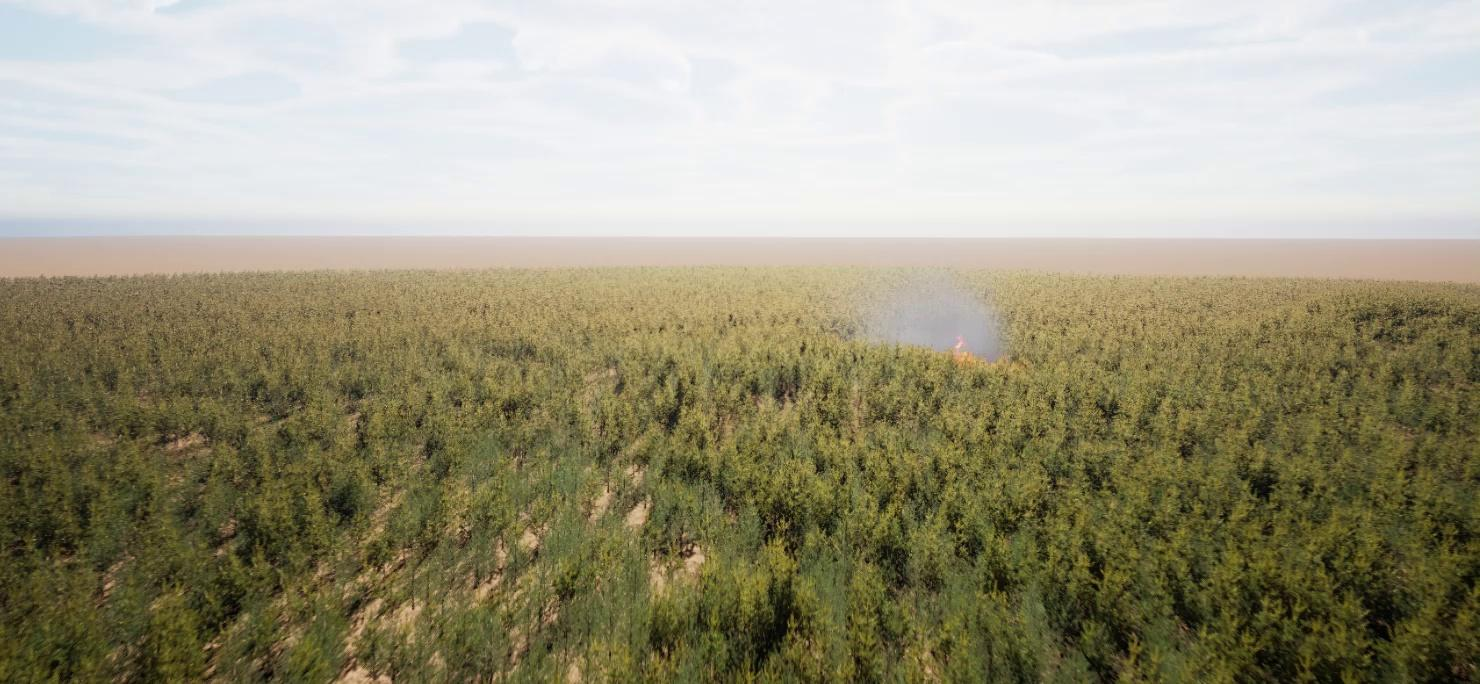fire: (953, 337, 989, 365)
smoke: (868, 264, 1016, 374)
